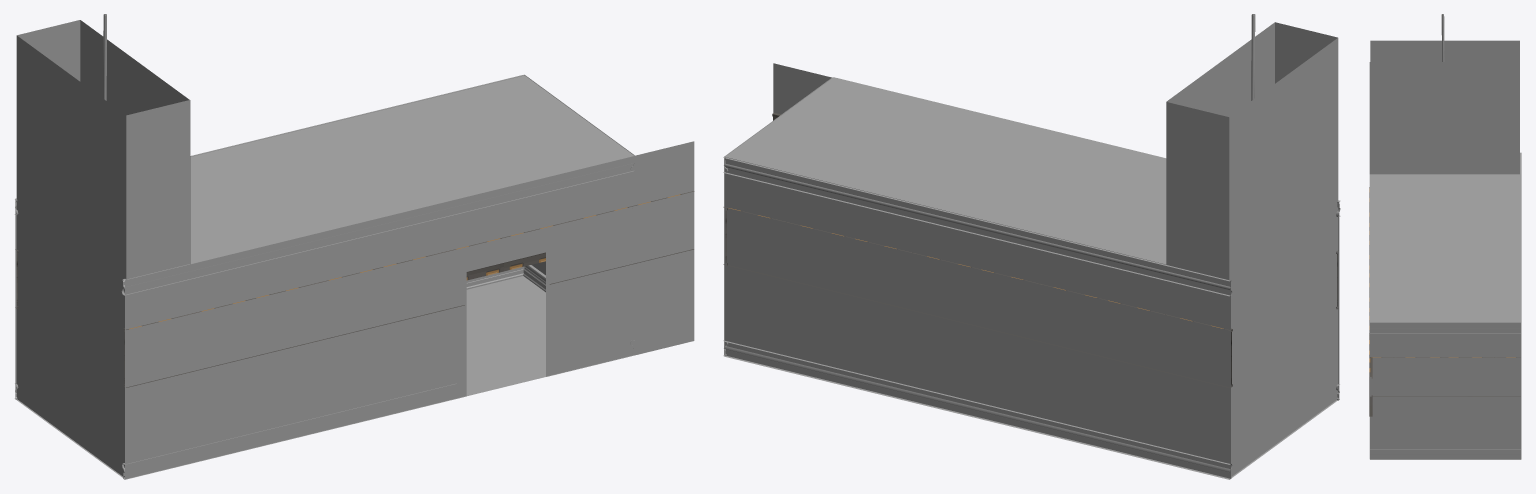
The model's file is SM_TutorialRoom_Hallway_01.fbx.
3 views of the same model, side by side, from view 1: azimuth 30°, elevation 25°; view 2: azimuth 150°, elevation 25°; view 3: azimuth 270°, elevation 25° (orthographic). The views are drawn at different scales.
Visible parts, largest first — view 1: SM_TutorialRoom_Hallway_Walls_01, SM_TutorialRoom_Hallway_Roof_01, SM_TutorialRoom_Hallway_Floor_01, SM_TutorialRoom_Hallway_Trim_01, SM_TutorialRoom_Hallway_WallMural_01, SM_TutorialRoom_Hallway_Trim_02; view 2: SM_TutorialRoom_Hallway_Walls_01, SM_TutorialRoom_Hallway_Roof_01, SM_TutorialRoom_Hallway_Trim_01, SM_TutorialRoom_Hallway_Trim_02, SM_TutorialRoom_Hallway_WallMural_01, SM_TutorialRoom_Hallway_Floor_01; view 3: SM_TutorialRoom_Hallway_Walls_01, SM_TutorialRoom_Hallway_Roof_01, SM_TutorialRoom_Hallway_Trim_01, SM_TutorialRoom_Hallway_WallMural_01, SM_TutorialRoom_Hallway_Trim_02.
Boxes of the visible parts, bbox=[...] form: SM_TutorialRoom_Hallway_Walls_01: bbox=[15, 20, 694, 479]; SM_TutorialRoom_Hallway_Roof_01: bbox=[189, 75, 633, 264]; SM_TutorialRoom_Hallway_Floor_01: bbox=[15, 276, 633, 479]; SM_TutorialRoom_Hallway_Trim_01: bbox=[14, 75, 634, 295]; SM_TutorialRoom_Hallway_WallMural_01: bbox=[15, 191, 694, 387]; SM_TutorialRoom_Hallway_Trim_02: bbox=[14, 265, 634, 479]; SM_TutorialRoom_Hallway_Walls_01: bbox=[724, 22, 1339, 478]; SM_TutorialRoom_Hallway_Roof_01: bbox=[727, 77, 1166, 264]; SM_TutorialRoom_Hallway_Trim_01: bbox=[723, 77, 1340, 296]; SM_TutorialRoom_Hallway_Trim_02: bbox=[723, 340, 1339, 479]; SM_TutorialRoom_Hallway_WallMural_01: bbox=[723, 113, 1338, 388]; SM_TutorialRoom_Hallway_Floor_01: bbox=[725, 355, 1339, 479]; SM_TutorialRoom_Hallway_Walls_01: bbox=[1369, 40, 1520, 459]; SM_TutorialRoom_Hallway_Roof_01: bbox=[1369, 174, 1520, 322]; SM_TutorialRoom_Hallway_Trim_01: bbox=[1369, 152, 1521, 333]; SM_TutorialRoom_Hallway_WallMural_01: bbox=[1369, 187, 1520, 416]; SM_TutorialRoom_Hallway_Trim_02: bbox=[1370, 333, 1521, 459].
Bounding box in the file's own units: 1793 × 1256 × 605.
Materials: 2 (1 with a texture image).
